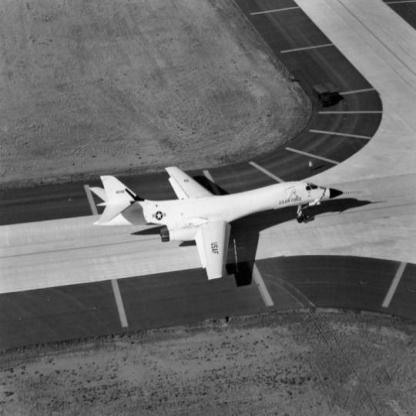B1: (89, 166, 365, 282)
